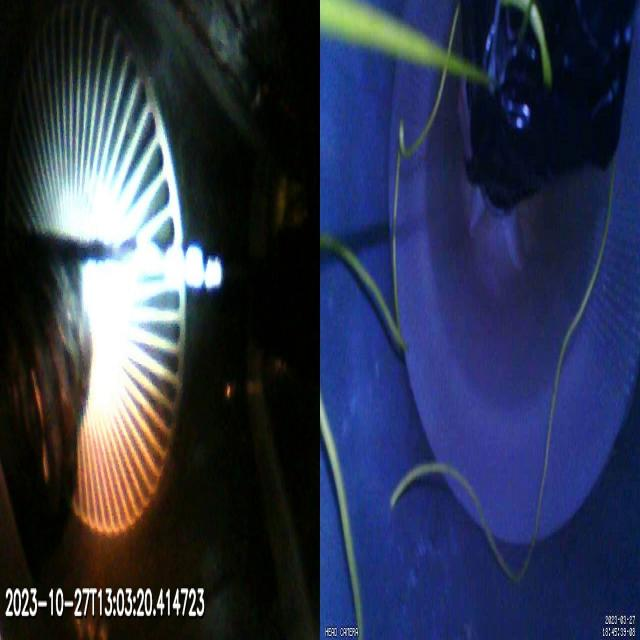white-dots: (168, 247, 222, 292)
